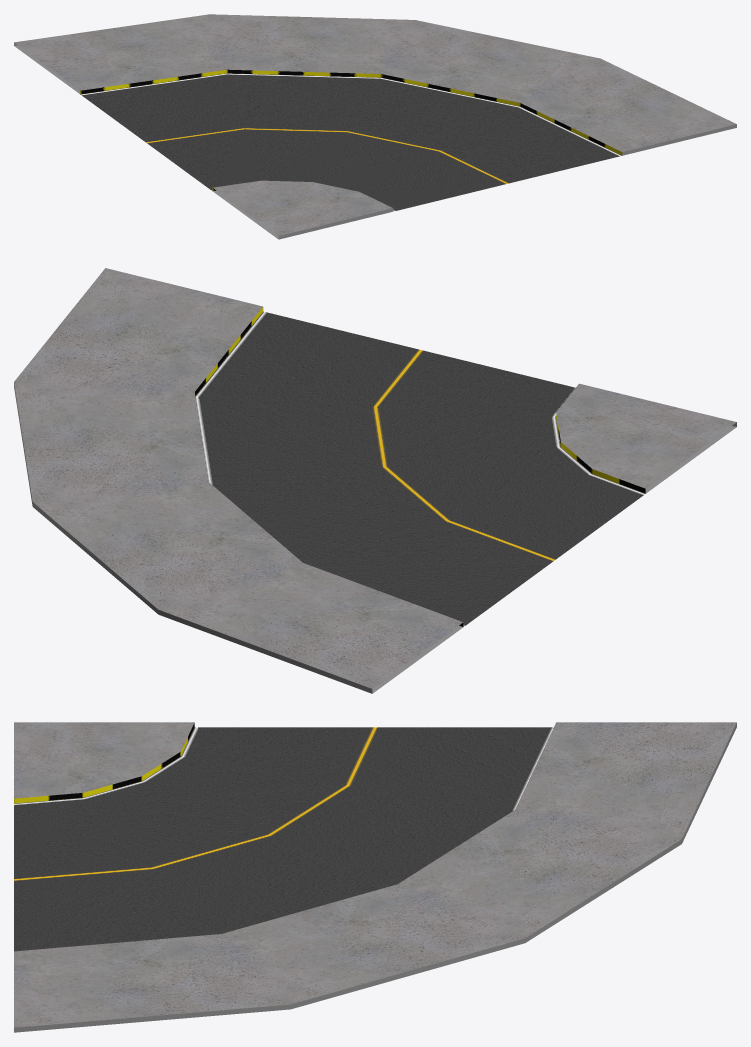
The model's file is turn.FBX.
The picture shows the model from 3 angles, top to bottom: view 1: azimuth 30°, elevation 25°; view 2: azimuth 150°, elevation 25°; view 3: azimuth 270°, elevation 25°; orthographic projection. The views are drawn at different scales.
Visible parts, largest first — view 1: 2LanesTurn; view 2: 2LanesTurn; view 3: 2LanesTurn.
Part boxes in pixels (left/top/right/bottom): 2LanesTurn: left=14, top=14, right=736, bottom=239; 2LanesTurn: left=14, top=268, right=736, bottom=693; 2LanesTurn: left=14, top=722, right=736, bottom=1032.
Size of the model in its own units: 1200 by 1200 by 9.
7 materials, 6 textured.
